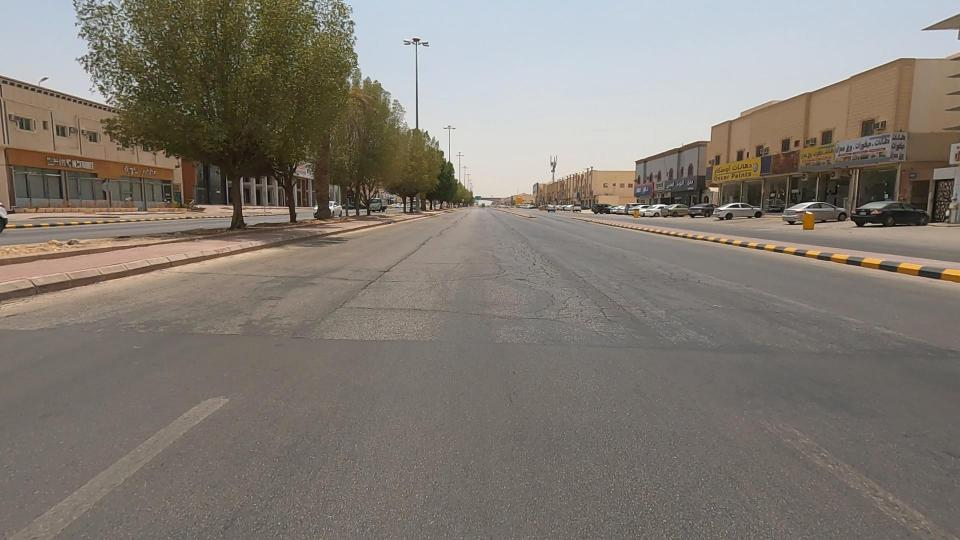SAND_ON_ROAD: (731, 127, 837, 199)
